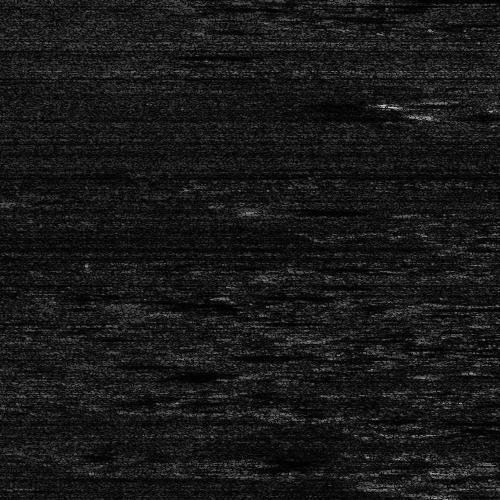object: (415, 463, 500, 472), (208, 202, 281, 211), (160, 353, 253, 360), (116, 51, 199, 58), (317, 0, 400, 3)
shadow: (245, 202, 322, 211), (157, 51, 243, 58), (359, 0, 500, 3), (207, 353, 261, 360), (473, 463, 500, 472)
